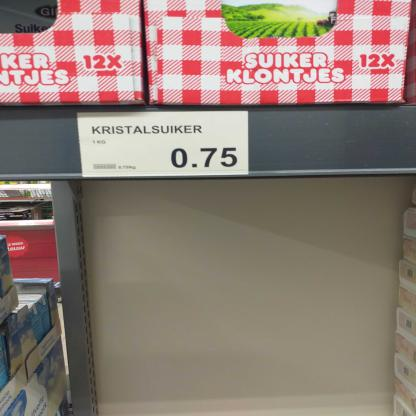prtg: (77, 112, 250, 179)
